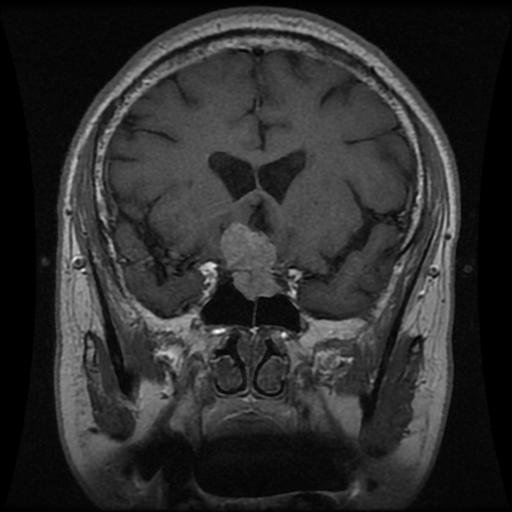Pituirity_tumour: (220, 221, 278, 300)
